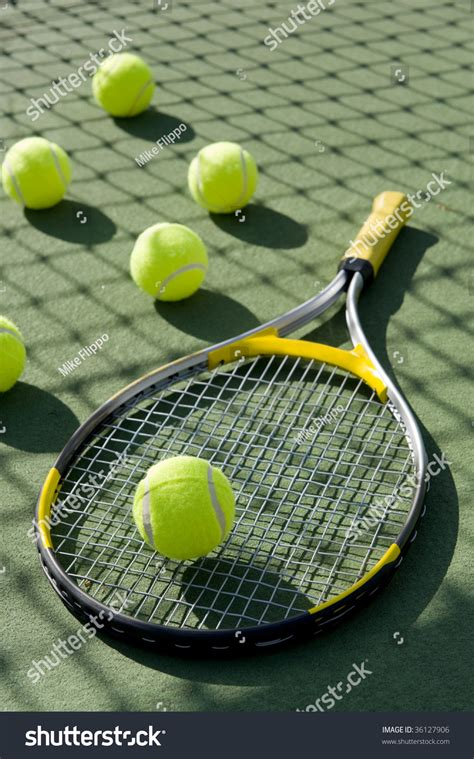tennis_ball: (131, 455, 236, 560), (130, 222, 208, 303), (187, 140, 257, 214), (1, 137, 72, 208), (93, 53, 154, 117), (1, 313, 27, 393)
